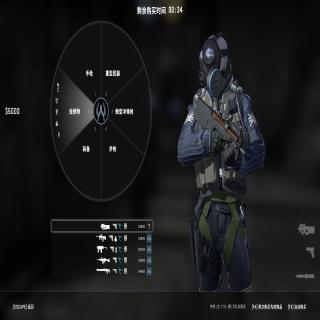CT-Body: (178, 32, 266, 292)
CT-Head: (197, 32, 230, 85)
